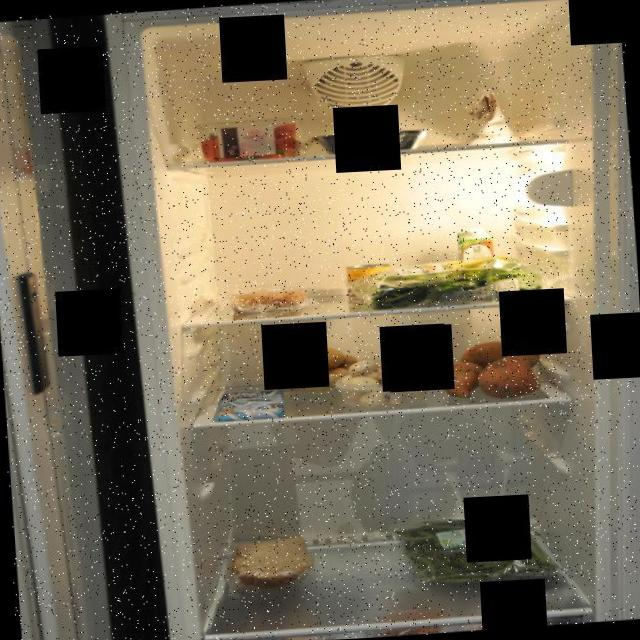Champiñones: (329, 354, 431, 410)
Gambas/Langostinos: (232, 287, 310, 313)
Patata: (260, 344, 362, 398)
bread: (226, 533, 317, 595)
chocolate: (214, 388, 286, 424)
corn: (342, 258, 394, 308)
flour: (452, 84, 520, 147)
green_beans: (388, 510, 558, 586)
heavy_cream: (454, 224, 498, 294)
spinach: (349, 251, 545, 311)
strawberries: (192, 114, 314, 163)
sweet_potato: (433, 334, 549, 402)
